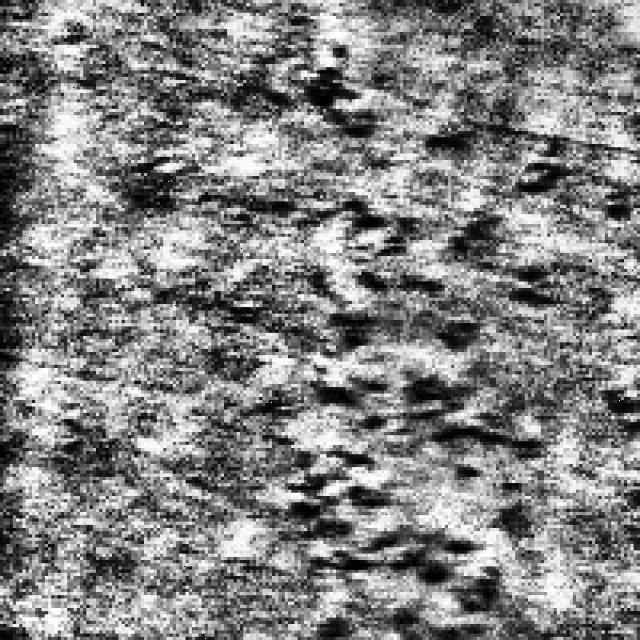Crazing: (307, 163, 544, 634), (310, 38, 477, 150)
